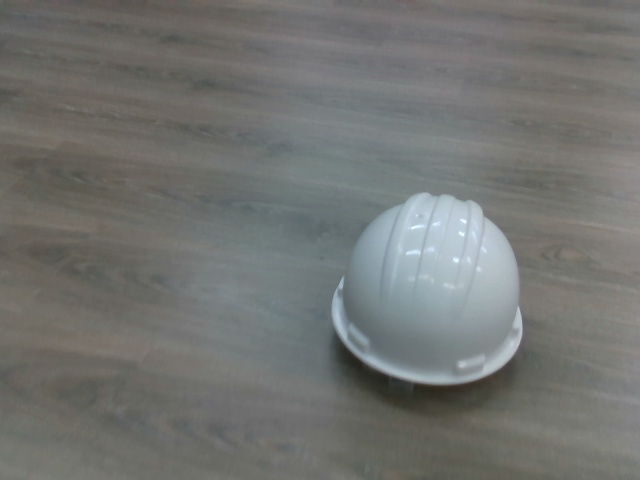helmet: (326, 189, 525, 388)
